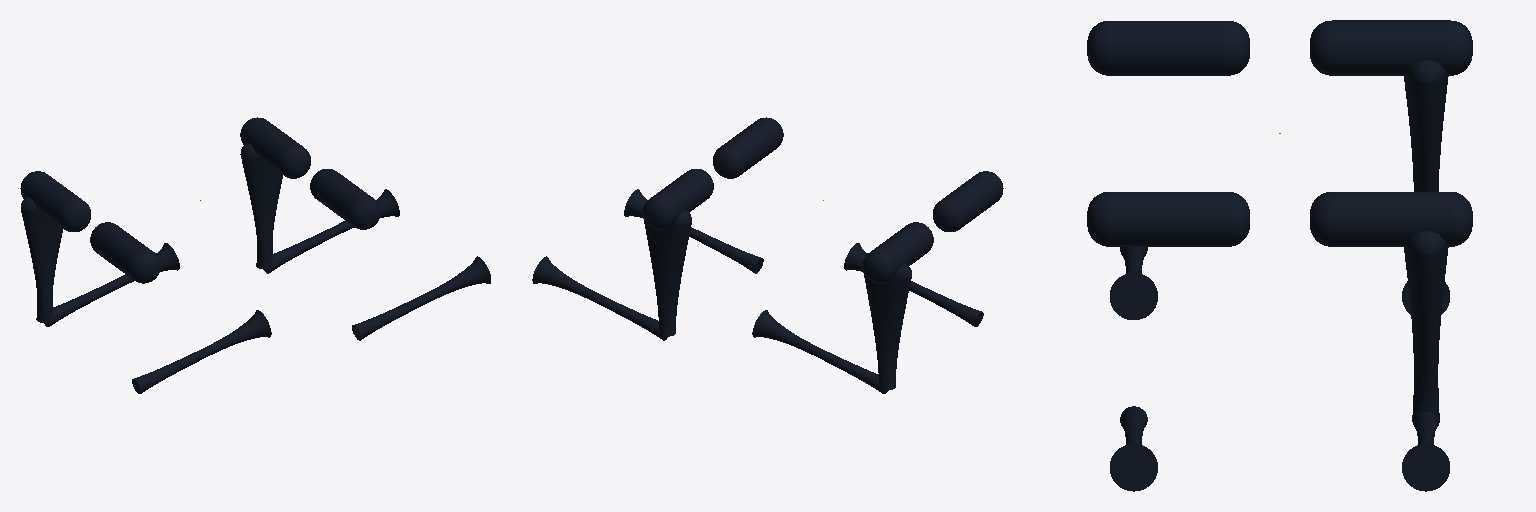
The robot description file, URDF, robot "a1_description":
<?xml version="1.0" ?>
<robot name="a1_description" xmlns:xacro="http://www.ros.org/wiki/xacro">
  <material name="black">
    <color rgba="0.0 0.0 0.0 1.0"/>
  </material>
  <material name="blue">
    <color rgba="0.0 0.0 0.8 1.0"/>
  </material>
  <material name="green">
    <color rgba="0.0 0.8 0.0 1.0"/>
  </material>
  <material name="grey">
    <color rgba="0.2 0.2 0.2 1.0"/>
  </material>
  <material name="silver">
    <color rgba="0.913725490196 0.913725490196 0.847058823529 1.0"/>
  </material>
  <material name="orange">
    <color rgba="0.12 0.15 0.2 1.0"/>
  </material>
  <material name="brown">
    <color rgba="0.870588235294 0.811764705882 0.764705882353 1.0"/>
  </material>
  <material name="red">
    <color rgba="0.8 0.0 0.0 1.0"/>
  </material>
  <material name="white">
    <color rgba="1.0 1.0 1.0 1.0"/>
  </material>

  <link name="base">
    <visual>
      <origin rpy="0 0 0" xyz="0 0 0"/>
      <geometry>
        <box size="0.001 0.001 0.001"/>
      </geometry>
    </visual>
  </link>
  <joint name="floating_base" type="fixed">
    <origin rpy="0 0 0" xyz="0 0 0"/>
    <parent link="base"/>
    <child link="trunk"/>
  </joint>
  <link name="trunk">
    <visual>
      <origin rpy="0 0 0" xyz="0 0 0"/>
      <geometry>
        <mesh filename="../meshes/trunk.dae" scale="1 1 1"/>
      </geometry>
      <material name="orange"/>
    </visual>
    <collision>
      <origin rpy="0 0 0" xyz="0 0 0"/>
      <geometry>
        <box size="0.267 0.194 0.114"/>
      </geometry>
    </collision>
    <inertial>
      <origin rpy="0 0 0" xyz="0.012731 0.002186 0.000515"/>
      <mass value="4.713"/>
      <inertia ixx="0.01683993" ixy="8.3902e-05" ixz="0.000597679" iyy="0.056579028" iyz="2.5134e-05" izz="0.064713601"/>
    </inertial>
  </link>
  <joint name="imu_joint" type="fixed">
    <parent link="trunk"/>
    <child link="imu_link"/>
    <origin rpy="0 0 0" xyz="0 0 0"/>
  </joint>
  <link name="imu_link">
    <inertial>
      <mass value="0.001"/>
      <origin rpy="0 0 0" xyz="0 0 0"/>
      <inertia ixx="0.0001" ixy="0" ixz="0" iyy="0.0001" iyz="0" izz="0.0001"/>
    </inertial>
    <visual>
      <origin rpy="0 0 0" xyz="0 0 0"/>
      <geometry>
        <box size="0.001 0.001 0.001"/>
      </geometry>
      <material name="red"/>
    </visual>
    <!-- <collision>
      <origin rpy="0 0 0" xyz="0 0 0"/>
      <geometry>
        <box size=".001 .001 .001"/>
      </geometry>
    </collision> -->
  </link>
  <joint name="FR_hip_joint" type="revolute">
    <origin rpy="0 0 0" xyz="0.183 -0.047 0"/>
    <parent link="trunk"/>
    <child link="FR_hip"/>
    <axis xyz="1 0 0"/>
    <dynamics damping="0" friction="0"/>
    <limit effort="20" lower="-0.802851455917" upper="0.802851455917" velocity="52.4"/>
  </joint>
  <link name="FR_hip">
    <visual>
      <origin rpy="3.14159265359 0 0" xyz="0 0 0"/>
      <geometry>
        <mesh filename="../meshes/hip.dae" scale="1 1 1"/>
      </geometry>
      <material name="orange"/>
    </visual>
    <!-- <collision>
      <origin rpy="1.57079632679 0 0" xyz="0 0 0"/>
      <geometry>
        <cylinder length="0.04" radius="0.046"/>
      </geometry>
    </collision> -->
    <inertial>
      <origin rpy="0 0 0" xyz="-0.003311 -0.000635 3.1e-05"/>
      <mass value="0.696"/>
      <inertia ixx="0.000469246" ixy="9.409e-06" ixz="-3.42e-07" iyy="0.00080749" iyz="4.66e-07" izz="0.000552929"/>
    </inertial>
  </link>
  <joint name="FR_hip_fixed" type="fixed">
    <origin rpy="0 0 0" xyz="0 -0.081 0"/>
    <parent link="FR_hip"/>
    <child link="FR_thigh_shoulder"/>
  </joint>
  <!-- this link is only for collision -->
  <link name="FR_thigh_shoulder">
    <!-- <collision>
      <origin rpy="1.57079632679 0 0" xyz="0 0 0"/>
      <geometry>
        <cylinder length="0.032" radius="0.041"/>
      </geometry>
    </collision> -->
  </link>
  <joint name="FR_thigh_joint" type="revolute">
    <origin rpy="0 0 0" xyz="0 -0.08505 0"/>
    <parent link="FR_hip"/>
    <child link="FR_thigh"/>
    <axis xyz="0 1 0"/>
    <dynamics damping="0" friction="0"/>
    <limit effort="55" lower="-1.0471975512" upper="4.18879020479" velocity="28.6"/>
  </joint>
  <link name="FR_thigh">
    <visual>
      <origin rpy="0 0 0" xyz="0 0 0"/>
      <geometry>
        <mesh filename="../meshes/thigh_mirror.dae" scale="1 1 1"/>
      </geometry>
      <material name="orange"/>
    </visual>
    <collision>
      <origin rpy="0 1.57079632679 0" xyz="0 0 -0.1"/>
      <geometry>
        <box size="0.2 0.0245 0.034"/>
      </geometry>
    </collision>
    <inertial>
      <origin rpy="0 0 0" xyz="-0.003237 0.022327 -0.027326"/>
      <mass value="1.013"/>
      <inertia ixx="0.005529065" ixy="-4.825e-06" ixz="0.000343869" iyy="0.005139339" iyz="-2.2448e-05" izz="0.001367788"/>
    </inertial>
  </link>
  <joint name="FR_calf_joint" type="revolute">
    <origin rpy="0 0 0" xyz="0 0 -0.2"/>
    <parent link="FR_thigh"/>
    <child link="FR_calf"/>
    <axis xyz="0 1 0"/>
    <dynamics damping="0" friction="0"/>
    <limit effort="55" lower="-2.69653369433" upper="-0.916297857297" velocity="28.6"/>
  </joint>
  <link name="FR_calf">
    <visual>
      <origin rpy="0 0 0" xyz="0 0 0"/>
      <geometry>
        <mesh filename="../meshes/calf.dae" scale="1 1 1"/>
      </geometry>
      <material name="orange"/>
    </visual>
    <collision>
      <origin rpy="0 1.57079632679 0" xyz="0 0 -0.1"/>
      <geometry>
        <box size="0.2 0.016 0.016"/>
      </geometry>
    </collision>
    <inertial>
      <origin rpy="0 0 0" xyz="0.006435 0.0 -0.107388"/>
      <mass value="0.166"/>
      <inertia ixx="0.002997972" ixy="0.0" ixz="-0.000141163" iyy="0.003014022" iyz="0.0" izz="3.2426e-05"/>
    </inertial>
  </link>
  <joint name="FR_foot_fixed" type="fixed" dont_collapse="true">
    <origin rpy="0 0 0" xyz="0 0 -0.2"/>
    <parent link="FR_calf"/>
    <child link="FR_foot"/>
  </joint>
  <link name="FR_foot">
    <visual>
      <origin rpy="0 0 0" xyz="0 0 0"/>
      <geometry>
        <sphere radius="0.01"/>
      </geometry>
      <material name="orange"/>
    </visual>
    <collision>
      <origin rpy="0 0 0" xyz="0 0 0"/>
      <geometry>
        <sphere radius="0.02"/>
      </geometry>
    </collision>
    <inertial>
      <mass value="0.06"/>
      <inertia ixx="9.6e-06" ixy="0.0" ixz="0.0" iyy="9.6e-06" iyz="0.0" izz="9.6e-06"/>
    </inertial>
  </link>
  <joint name="FL_hip_joint" type="revolute">
    <origin rpy="0 0 0" xyz="0.183 0.047 0"/>
    <parent link="trunk"/>
    <child link="FL_hip"/>
    <axis xyz="1 0 0"/>
    <dynamics damping="0" friction="0"/>
    <limit effort="20" lower="-0.802851455917" upper="0.802851455917" velocity="52.4"/>
  </joint>
  <link name="FL_hip">
    <visual>
      <origin rpy="0 0 0" xyz="0 0 0"/>
      <geometry>
        <mesh filename="../meshes/hip.dae" scale="1 1 1"/>
      </geometry>
      <material name="orange"/>
    </visual>
    <!-- <collision>
      <origin rpy="1.57079632679 0 0" xyz="0 0 0"/>
      <geometry>
        <cylinder length="0.04" radius="0.046"/>
      </geometry>
    </collision> -->
    <inertial>
      <origin rpy="0 0 0" xyz="-0.003311 0.000635 3.1e-05"/>
      <mass value="0.696"/>
      <inertia ixx="0.000469246" ixy="-9.409e-06" ixz="-3.42e-07" iyy="0.00080749" iyz="-4.66e-07" izz="0.000552929"/>
    </inertial>
  </link>
  <joint name="FL_hip_fixed" type="fixed">
    <origin rpy="0 0 0" xyz="0 0.081 0"/>
    <parent link="FL_hip"/>
    <child link="FL_thigh_shoulder"/>
  </joint>
  <!-- this link is only for collision -->
  <link name="FL_thigh_shoulder">
    <!-- <collision>
      <origin rpy="1.57079632679 0 0" xyz="0 0 0"/>
      <geometry>
        <cylinder length="0.032" radius="0.041"/>
      </geometry>
    </collision> -->
  </link>
  <joint name="FL_thigh_joint" type="revolute">
    <origin rpy="0 0 0" xyz="0 0.08505 0"/>
    <parent link="FL_hip"/>
    <child link="FL_thigh"/>
    <axis xyz="0 1 0"/>
    <dynamics damping="0" friction="0"/>
    <limit effort="55" lower="-1.0471975512" upper="4.18879020479" velocity="28.6"/>
  </joint>
  <link name="FL_thigh">
    <visual>
      <origin rpy="0 0 0" xyz="0 0 0"/>
      <geometry>
        <mesh filename="../meshes/thigh.dae" scale="1 1 1"/>
      </geometry>
      <material name="orange"/>
    </visual>
    <collision>
      <origin rpy="0 1.57079632679 0" xyz="0 0 -0.1"/>
      <geometry>
        <box size="0.2 0.0245 0.034"/>
      </geometry>
    </collision>
    <inertial>
      <origin rpy="0 0 0" xyz="-0.003237 -0.022327 -0.027326"/>
      <mass value="1.013"/>
      <inertia ixx="0.005529065" ixy="4.825e-06" ixz="0.000343869" iyy="0.005139339" iyz="2.2448e-05" izz="0.001367788"/>
    </inertial>
  </link>
  <joint name="FL_calf_joint" type="revolute">
    <origin rpy="0 0 0" xyz="0 0 -0.2"/>
    <parent link="FL_thigh"/>
    <child link="FL_calf"/>
    <axis xyz="0 1 0"/>
    <dynamics damping="0" friction="0"/>
    <limit effort="55" lower="-2.69653369433" upper="-0.916297857297" velocity="28.6"/>
  </joint>
  <link name="FL_calf">
    <visual>
      <origin rpy="0 0 0" xyz="0 0 0"/>
      <geometry>
        <mesh filename="../meshes/calf.dae" scale="1 1 1"/>
      </geometry>
      <material name="orange"/>
    </visual>
    <collision>
      <origin rpy="0 1.57079632679 0" xyz="0 0 -0.1"/>
      <geometry>
        <box size="0.2 0.016 0.016"/>
      </geometry>
    </collision>
    <inertial>
      <origin rpy="0 0 0" xyz="0.006435 0.0 -0.107388"/>
      <mass value="0.166"/>
      <inertia ixx="0.002997972" ixy="0.0" ixz="-0.000141163" iyy="0.003014022" iyz="0.0" izz="3.2426e-05"/>
    </inertial>
  </link>
  <joint name="FL_foot_fixed" type="fixed" dont_collapse="true">
    <origin rpy="0 0 0" xyz="0 0 -0.2"/>
    <parent link="FL_calf"/>
    <child link="FL_foot"/>
  </joint>
  <link name="FL_foot">
    <visual>
      <origin rpy="0 0 0" xyz="0 0 0"/>
      <geometry>
        <sphere radius="0.01"/>
      </geometry>
      <material name="orange"/>
    </visual>
    <collision>
      <origin rpy="0 0 0" xyz="0 0 0"/>
      <geometry>
        <sphere radius="0.02"/>
      </geometry>
    </collision>
    <inertial>
      <mass value="0.06"/>
      <inertia ixx="9.6e-06" ixy="0.0" ixz="0.0" iyy="9.6e-06" iyz="0.0" izz="9.6e-06"/>
    </inertial>
  </link>
  <joint name="RR_hip_joint" type="revolute">
    <origin rpy="0 0 0" xyz="-0.183 -0.047 0"/>
    <parent link="trunk"/>
    <child link="RR_hip"/>
    <axis xyz="1 0 0"/>
    <dynamics damping="0" friction="0"/>
    <limit effort="20" lower="-0.802851455917" upper="0.802851455917" velocity="52.4"/>
  </joint>
  <link name="RR_hip">
    <visual>
      <origin rpy="3.14159265359 3.14159265359 0" xyz="0 0 0"/>
      <geometry>
        <mesh filename="../meshes/hip.dae" scale="1 1 1"/>
      </geometry>
      <material name="orange"/>
    </visual>
    <!-- <collision>
      <origin rpy="1.57079632679 0 0" xyz="0 0 0"/>
      <geometry>
        <cylinder length="0.04" radius="0.046"/>
      </geometry>
    </collision> -->
    <inertial>
      <origin rpy="0 0 0" xyz="0.003311 -0.000635 3.1e-05"/>
      <mass value="0.696"/>
      <inertia ixx="0.000469246" ixy="-9.409e-06" ixz="3.42e-07" iyy="0.00080749" iyz="4.66e-07" izz="0.000552929"/>
    </inertial>
  </link>
  <joint name="RR_hip_fixed" type="fixed">
    <origin rpy="0 0 0" xyz="0 -0.081 0"/>
    <parent link="RR_hip"/>
    <child link="RR_thigh_shoulder"/>
  </joint>
  <!-- this link is only for collision -->
  <link name="RR_thigh_shoulder">
    <!-- <collision>
      <origin rpy="1.57079632679 0 0" xyz="0 0 0"/>
      <geometry>
        <cylinder length="0.032" radius="0.041"/>
      </geometry>
    </collision> -->
  </link>
  <joint name="RR_thigh_joint" type="revolute">
    <origin rpy="0 0 0" xyz="0 -0.08505 0"/>
    <parent link="RR_hip"/>
    <child link="RR_thigh"/>
    <axis xyz="0 1 0"/>
    <dynamics damping="0" friction="0"/>
    <limit effort="55" lower="-1.0471975512" upper="4.18879020479" velocity="28.6"/>
  </joint>
  <link name="RR_thigh">
    <visual>
      <origin rpy="0 0 0" xyz="0 0 0"/>
      <geometry>
        <mesh filename="../meshes/thigh_mirror.dae" scale="1 1 1"/>
      </geometry>
      <material name="orange"/>
    </visual>
    <collision>
      <origin rpy="0 1.57079632679 0" xyz="0 0 -0.1"/>
      <geometry>
        <box size="0.2 0.0245 0.034"/>
      </geometry>
    </collision>
    <inertial>
      <origin rpy="0 0 0" xyz="-0.003237 0.022327 -0.027326"/>
      <mass value="1.013"/>
      <inertia ixx="0.005529065" ixy="-4.825e-06" ixz="0.000343869" iyy="0.005139339" iyz="-2.2448e-05" izz="0.001367788"/>
    </inertial>
  </link>
  <joint name="RR_calf_joint" type="revolute">
    <origin rpy="0 0 0" xyz="0 0 -0.2"/>
    <parent link="RR_thigh"/>
    <child link="RR_calf"/>
    <axis xyz="0 1 0"/>
    <dynamics damping="0" friction="0"/>
    <limit effort="55" lower="-2.69653369433" upper="-0.916297857297" velocity="28.6"/>
  </joint>
  <link name="RR_calf">
    <visual>
      <origin rpy="0 0 0" xyz="0 0 0"/>
      <geometry>
        <mesh filename="../meshes/calf.dae" scale="1 1 1"/>
      </geometry>
      <material name="orange"/>
    </visual>
    <collision>
      <origin rpy="0 1.57079632679 0" xyz="0 0 -0.1"/>
      <geometry>
        <box size="0.2 0.016 0.016"/>
      </geometry>
    </collision>
    <inertial>
      <origin rpy="0 0 0" xyz="0.006435 0.0 -0.107388"/>
      <mass value="0.166"/>
      <inertia ixx="0.002997972" ixy="0.0" ixz="-0.000141163" iyy="0.003014022" iyz="0.0" izz="3.2426e-05"/>
    </inertial>
  </link>
  <joint name="RR_foot_fixed" type="fixed" dont_collapse="true">
    <origin rpy="0 0 0" xyz="0 0 -0.2"/>
    <parent link="RR_calf"/>
    <child link="RR_foot"/>
  </joint>
  <link name="RR_foot">
    <visual>
      <origin rpy="0 0 0" xyz="0 0 0"/>
      <geometry>
        <sphere radius="0.01"/>
      </geometry>
      <material name="orange"/>
    </visual>
    <collision>
      <origin rpy="0 0 0" xyz="0 0 0"/>
      <geometry>
        <sphere radius="0.02"/>
      </geometry>
    </collision>
    <inertial>
      <mass value="0.06"/>
      <inertia ixx="9.6e-06" ixy="0.0" ixz="0.0" iyy="9.6e-06" iyz="0.0" izz="9.6e-06"/>
    </inertial>
  </link>
  <joint name="RL_hip_joint" type="revolute">
    <origin rpy="0 0 0" xyz="-0.183 0.047 0"/>
    <parent link="trunk"/>
    <child link="RL_hip"/>
    <axis xyz="1 0 0"/>
    <dynamics damping="0" friction="0"/>
    <limit effort="20" lower="-0.802851455917" upper="0.802851455917" velocity="52.4"/>
  </joint>
  <link name="RL_hip">
    <visual>
      <origin rpy="0 3.14159265359 0" xyz="0 0 0"/>
      <geometry>
        <mesh filename="../meshes/hip.dae" scale="1 1 1"/>
      </geometry>
      <material name="orange"/>
    </visual>
    <!-- <collision>
      <origin rpy="1.57079632679 0 0" xyz="0 0 0"/>
      <geometry>
        <cylinder length="0.04" radius="0.046"/>
      </geometry>
    </collision> -->
    <inertial>
      <origin rpy="0 0 0" xyz="0.003311 0.000635 3.1e-05"/>
      <mass value="0.696"/>
      <inertia ixx="0.000469246" ixy="9.409e-06" ixz="3.42e-07" iyy="0.00080749" iyz="-4.66e-07" izz="0.000552929"/>
    </inertial>
  </link>
  <joint name="RL_hip_fixed" type="fixed">
    <origin rpy="0 0 0" xyz="0 0.081 0"/>
    <parent link="RL_hip"/>
    <child link="RL_thigh_shoulder"/>
  </joint>
  <!-- this link is only for collision -->
  <link name="RL_thigh_shoulder">
    <!-- <collision>
      <origin rpy="1.57079632679 0 0" xyz="0 0 0"/>
      <geometry>
        <cylinder length="0.032" radius="0.041"/>
      </geometry>
    </collision> -->
  </link>
  <joint name="RL_thigh_joint" type="revolute">
    <origin rpy="0 0 0" xyz="0 0.08505 0"/>
    <parent link="RL_hip"/>
    <child link="RL_thigh"/>
    <axis xyz="0 1 0"/>
    <dynamics damping="0" friction="0"/>
    <limit effort="55" lower="-1.0471975512" upper="4.18879020479" velocity="28.6"/>
  </joint>
  <link name="RL_thigh">
    <visual>
      <origin rpy="0 0 0" xyz="0 0 0"/>
      <geometry>
        <mesh filename="../meshes/thigh.dae" scale="1 1 1"/>
      </geometry>
      <material name="orange"/>
    </visual>
    <collision>
      <origin rpy="0 1.57079632679 0" xyz="0 0 -0.1"/>
      <geometry>
        <box size="0.2 0.0245 0.034"/>
      </geometry>
    </collision>
    <inertial>
      <origin rpy="0 0 0" xyz="-0.003237 -0.022327 -0.027326"/>
      <mass value="1.013"/>
      <inertia ixx="0.005529065" ixy="4.825e-06" ixz="0.000343869" iyy="0.005139339" iyz="2.2448e-05" izz="0.001367788"/>
    </inertial>
  </link>
  <joint name="RL_calf_joint" type="revolute">
    <origin rpy="0 0 0" xyz="0 0 -0.2"/>
    <parent link="RL_thigh"/>
    <child link="RL_calf"/>
    <axis xyz="0 1 0"/>
    <dynamics damping="0" friction="0"/>
    <limit effort="55" lower="-2.69653369433" upper="-0.916297857297" velocity="28.6"/>
  </joint>
  <link name="RL_calf">
    <visual>
      <origin rpy="0 0 0" xyz="0 0 0"/>
      <geometry>
        <mesh filename="../meshes/calf.dae" scale="1 1 1"/>
      </geometry>
      <material name="orange"/>
    </visual>
    <collision>
      <origin rpy="0 1.57079632679 0" xyz="0 0 -0.1"/>
      <geometry>
        <box size="0.2 0.016 0.016"/>
      </geometry>
    </collision>
    <inertial>
      <origin rpy="0 0 0" xyz="0.006435 0.0 -0.107388"/>
      <mass value="0.166"/>
      <inertia ixx="0.002997972" ixy="0.0" ixz="-0.000141163" iyy="0.003014022" iyz="0.0" izz="3.2426e-05"/>
    </inertial>
  </link>
  <joint name="RL_foot_fixed" type="fixed" dont_collapse="true">
    <origin rpy="0 0 0" xyz="0 0 -0.2"/>
    <parent link="RL_calf"/>
    <child link="RL_foot"/>
  </joint>
  <link name="RL_foot">
    <visual>
      <origin rpy="0 0 0" xyz="0 0 0"/>
      <geometry>
        <sphere radius="0.01"/>
      </geometry>
      <material name="orange"/>
    </visual>
    <collision>
      <origin rpy="0 0 0" xyz="0 0 0"/>
      <geometry>
        <sphere radius="0.02"/>
      </geometry>
    </collision>
    <inertial>
      <mass value="0.06"/>
      <inertia ixx="9.6e-06" ixy="0.0" ixz="0.0" iyy="9.6e-06" iyz="0.0" izz="9.6e-06"/>
    </inertial>
  </link>
</robot>

--- Facts derived from the render (not from the file) ---
3 views of the same robot in one strip: view 1: azimuth 30°, elevation 25°; view 2: azimuth 150°, elevation 25°; view 3: azimuth 270°, elevation 25° (orthographic).
Robot: a1_description — 23 links, 22 joints (12 revolute, 10 fixed); root link base; default pose: joints at zero except 4 at the middle of their limits (FR_calf_joint = -1.81, FL_calf_joint = -1.81, RR_calf_joint = -1.81, RL_calf_joint = -1.81).
Links seen in each view (by area): view 1: FL_thigh, RL_thigh, RR_hip, FR_hip, FL_hip, RL_hip, RR_calf, FR_calf, RL_calf, FL_calf; view 2: RL_thigh, FL_thigh, FR_hip, RR_hip, RL_hip, FL_hip, RL_calf, FL_calf, FR_calf, RR_calf; view 3: RR_hip, FR_hip, RL_hip, FL_hip, FL_thigh, RL_thigh, FR_calf, FL_calf, RR_calf.
Boxes of the visible links, bbox=[...] form: FL_thigh: bbox=[240, 143, 282, 269]; RL_thigh: bbox=[21, 197, 62, 322]; RR_hip: bbox=[90, 222, 160, 283]; FR_hip: bbox=[310, 169, 380, 229]; FL_hip: bbox=[240, 117, 310, 178]; RL_hip: bbox=[20, 171, 90, 231]; RR_calf: bbox=[132, 310, 271, 393]; FR_calf: bbox=[352, 256, 490, 340]; RL_calf: bbox=[44, 243, 179, 326]; FL_calf: bbox=[264, 189, 399, 273]; RL_thigh: bbox=[863, 264, 911, 389]; FL_thigh: bbox=[643, 210, 691, 336]; FR_hip: bbox=[713, 117, 783, 178]; RR_hip: bbox=[933, 171, 1003, 231]; RL_hip: bbox=[863, 222, 933, 283]; FL_hip: bbox=[643, 169, 713, 229]; RL_calf: bbox=[752, 310, 888, 393]; FL_calf: bbox=[532, 256, 667, 340]; FR_calf: bbox=[624, 189, 763, 273]; RR_calf: bbox=[844, 243, 983, 326]; RR_hip: bbox=[1087, 21, 1249, 75]; FR_hip: bbox=[1087, 192, 1249, 246]; RL_hip: bbox=[1310, 20, 1472, 75]; FL_hip: bbox=[1310, 192, 1472, 246]; FL_thigh: bbox=[1404, 231, 1448, 420]; RL_thigh: bbox=[1404, 60, 1448, 191]; FR_calf: bbox=[1110, 406, 1157, 491]; FL_calf: bbox=[1402, 411, 1449, 491]; RR_calf: bbox=[1110, 247, 1157, 319].
Bounding box of the posed robot: 0.6211 × 0.3483 × 0.2372 m (x, y, z).
10 mesh visuals loaded from 5 distinct referenced files (3 Collada DAE); not drawn: 3 (reference not matched to a file when rendering).